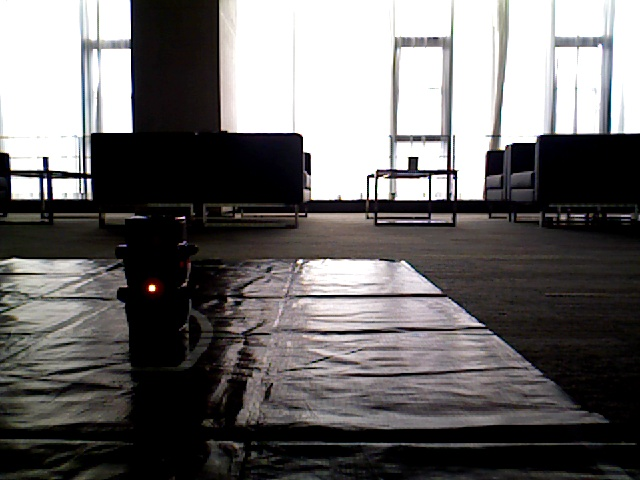yellow: (128, 220, 177, 339)
